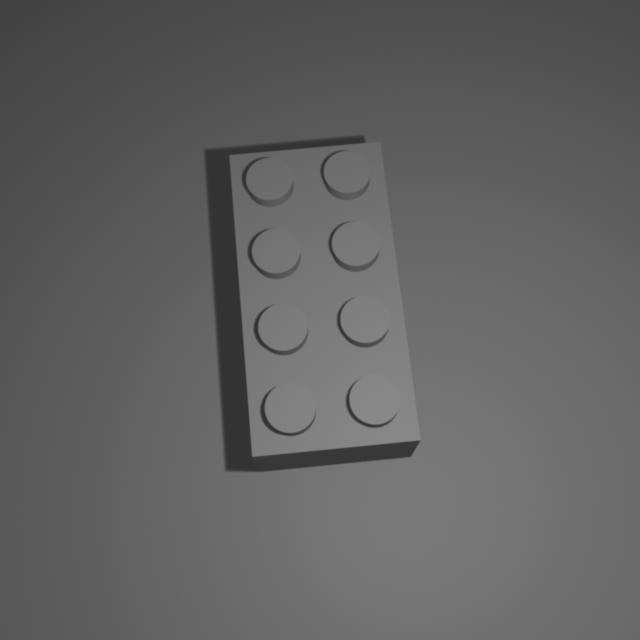lego_2x4: (228, 134, 423, 472)
